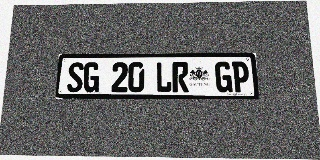0: (128, 62, 144, 92)
2: (111, 62, 128, 92)
G: (215, 62, 233, 92), (83, 62, 100, 92)
L: (156, 62, 172, 92)
P: (232, 62, 250, 92)
R: (172, 62, 189, 92)
S: (67, 62, 84, 92)
